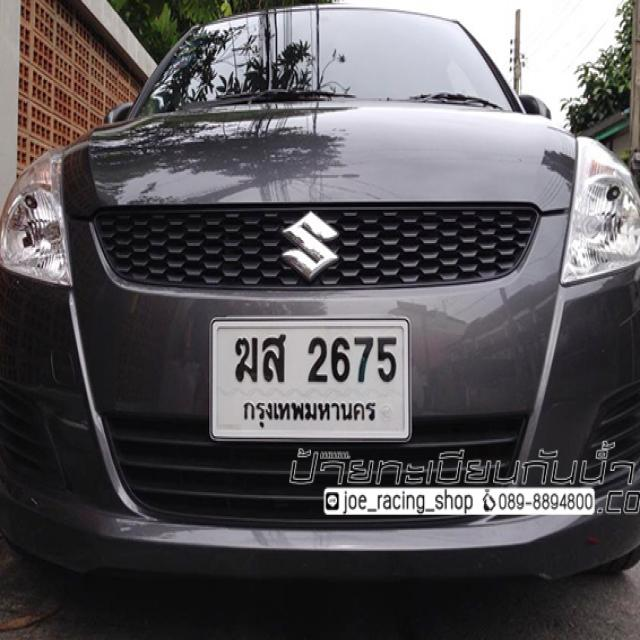license_plate: (210, 316, 412, 446)
